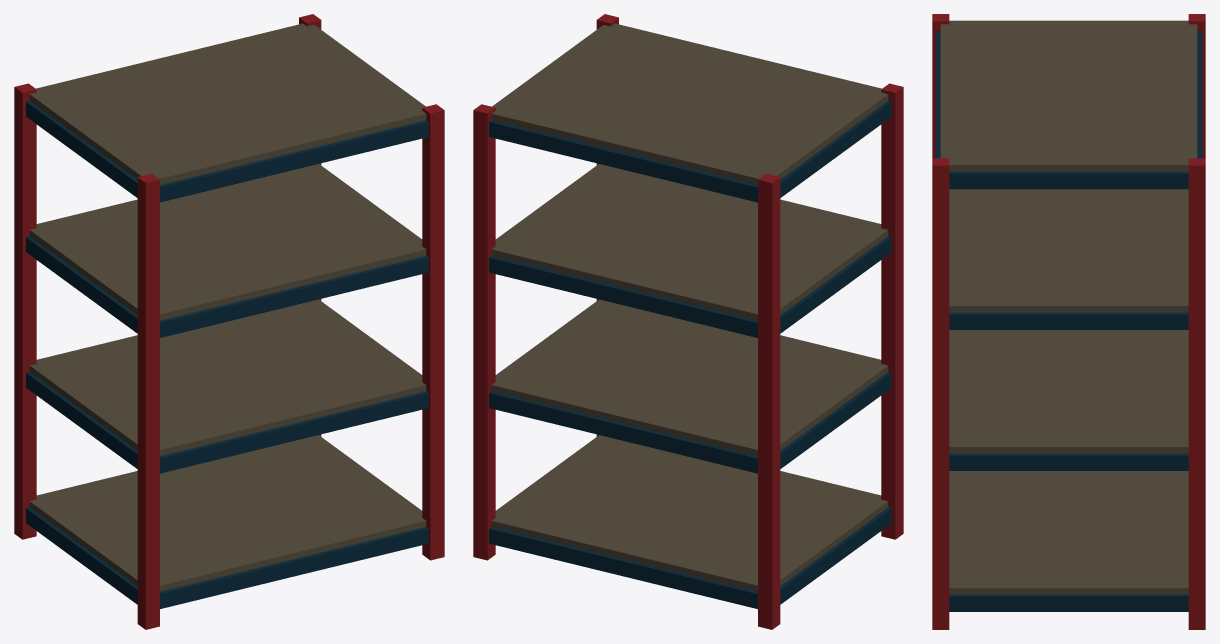
Rendered from Shelving_2.fbx.
3 renders of one model, left to right at view 1: azimuth 30°, elevation 25°; view 2: azimuth 150°, elevation 25°; view 3: azimuth 270°, elevation 25°, orthographic. The views are drawn at different scales.
Visible parts, largest first — view 1: Shelving_2; view 2: Shelving_2; view 3: Shelving_2.
Part boxes in pixels (<box>): Shelving_2: <box>14,14,444,629</box>; Shelving_2: <box>473,14,903,629</box>; Shelving_2: <box>932,14,1205,629</box>.
Size of the model in its own units: 210 by 300 by 160.
